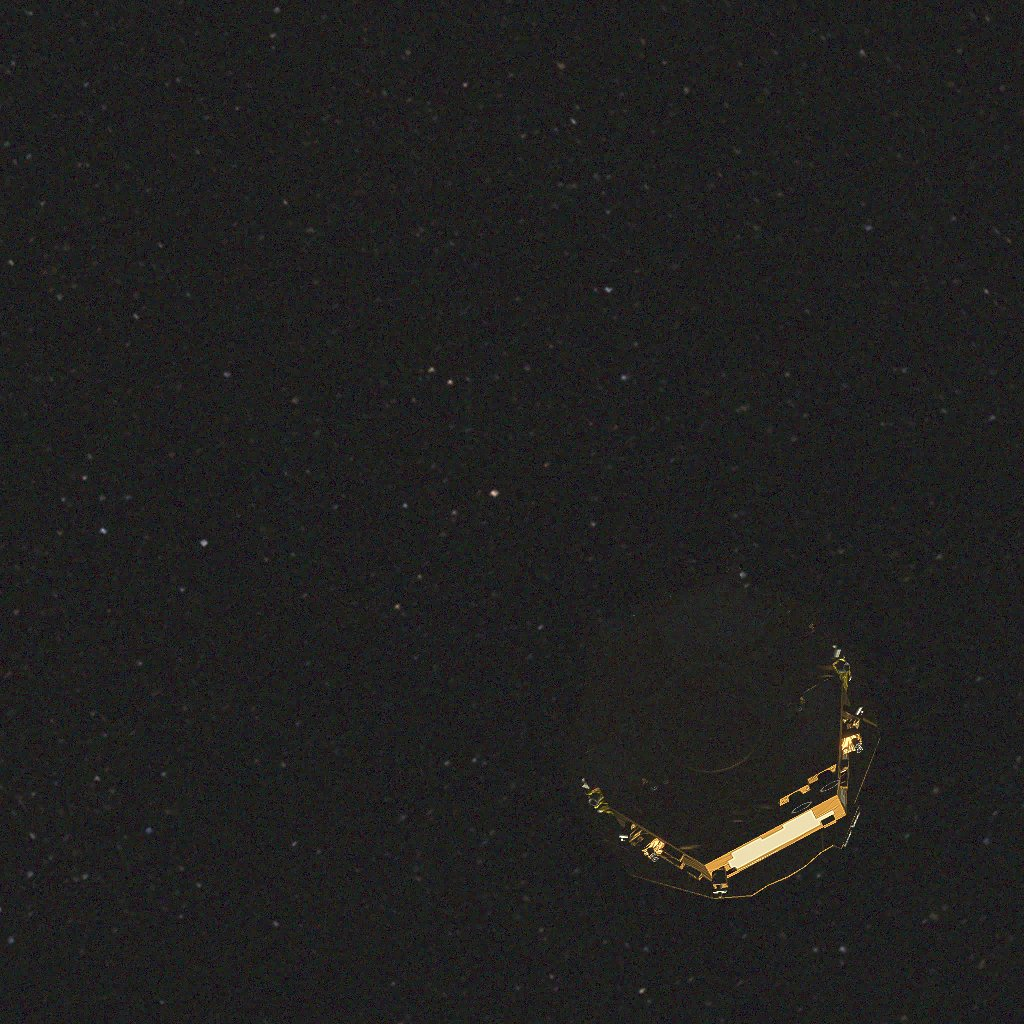lisa_pathfinder: (564, 563, 880, 899)
